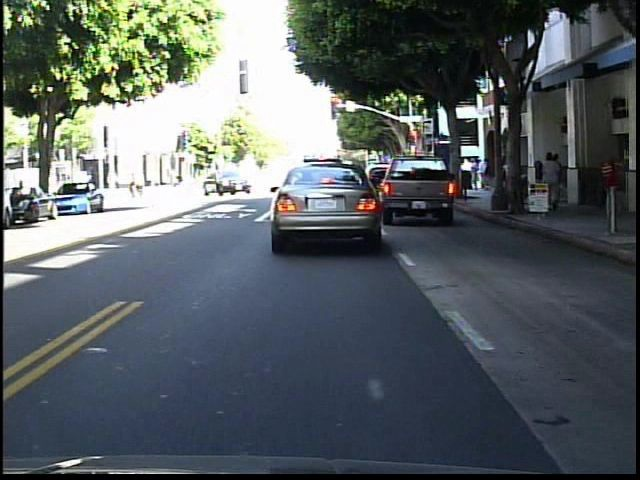person: (547, 152, 562, 208), (553, 152, 568, 206)
